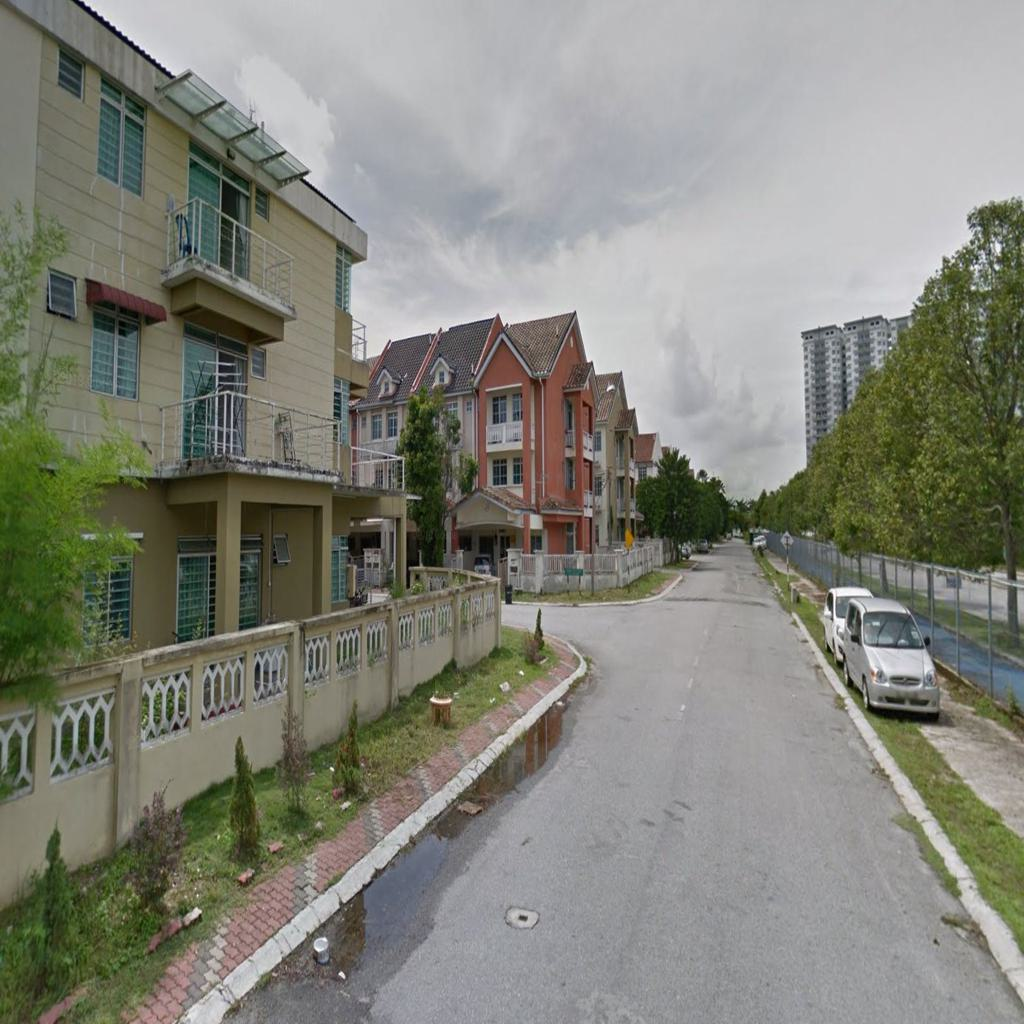Junction: (505, 564, 678, 696)
